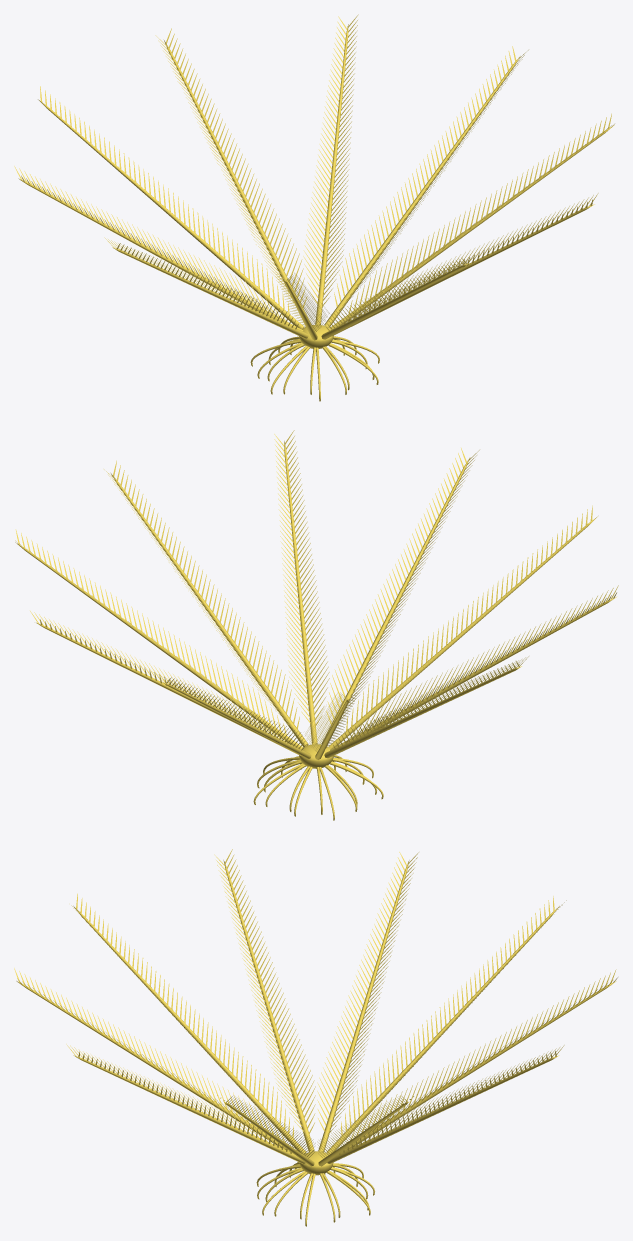
File: crinoid_feather_star.glb
3 renders of one model, top to bottom at view 1: azimuth 30°, elevation 25°; view 2: azimuth 150°, elevation 25°; view 3: azimuth 270°, elevation 25°, orthographic. The views are drawn at different scales.
Parts seen in each view (by area): view 1: crinoid_feather_star; view 2: crinoid_feather_star; view 3: crinoid_feather_star.
Part boxes in pixels (bbox=[...]): crinoid_feather_star: bbox=[14, 14, 614, 401]; crinoid_feather_star: bbox=[15, 430, 618, 820]; crinoid_feather_star: bbox=[14, 849, 617, 1226].
Size of the model in its own units: 0.2515 by 0.1087 by 0.2617.
